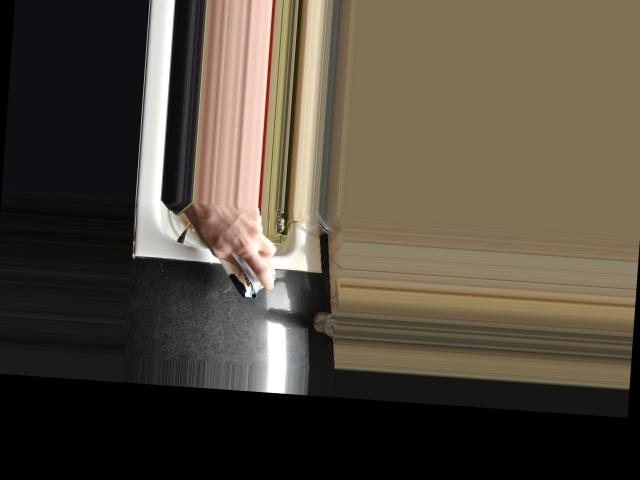cheese: (203, 208, 275, 302)
